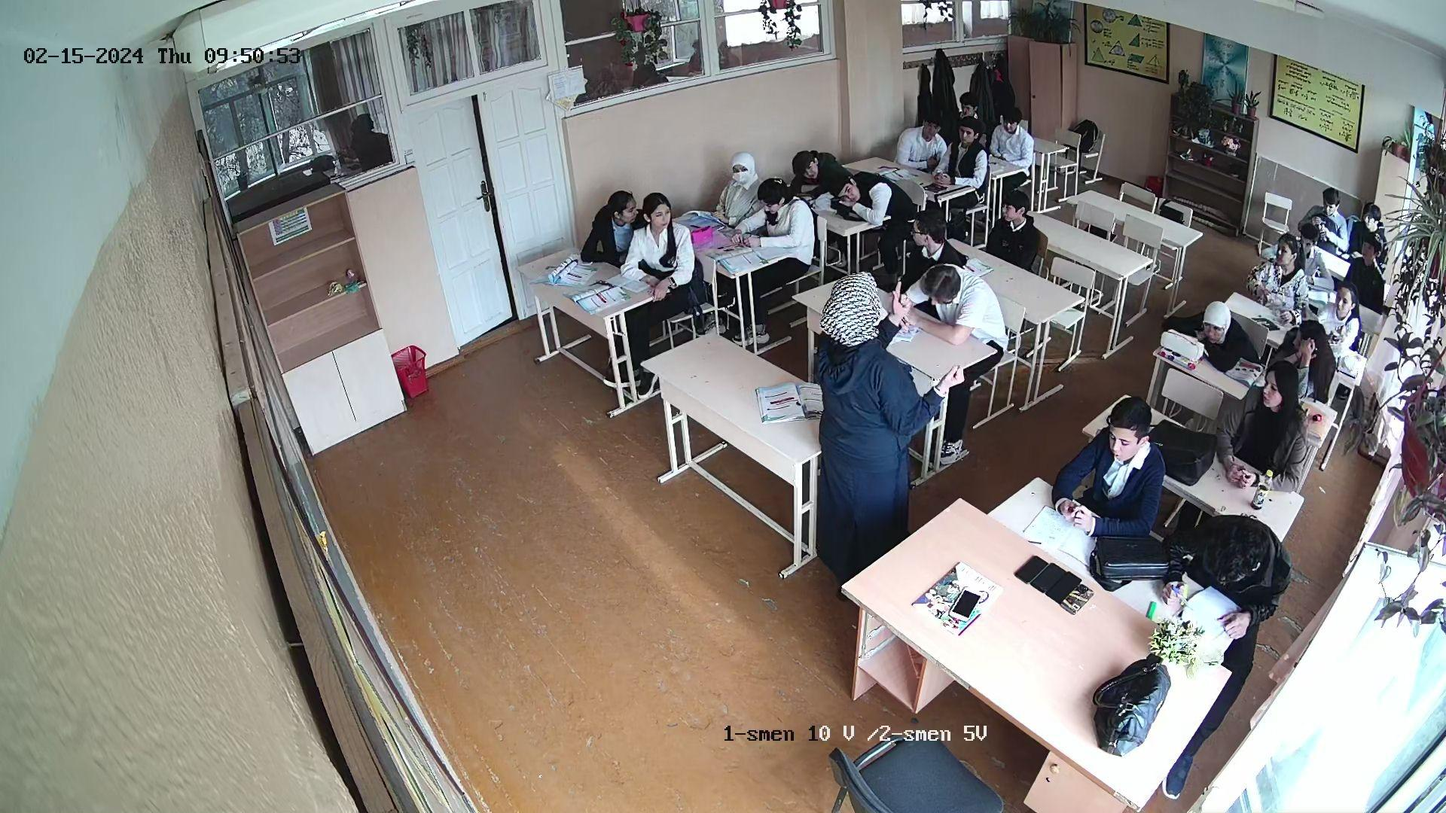Bend Over The Desk: (1174, 297, 1245, 364), (827, 174, 892, 225), (784, 149, 823, 194)
Look Around: (592, 182, 634, 265), (640, 190, 684, 268), (1258, 227, 1303, 295), (905, 209, 951, 249), (916, 113, 944, 151)
Normal: (1080, 403, 1165, 537), (1216, 367, 1301, 498), (1189, 505, 1276, 627), (990, 190, 1035, 263), (992, 108, 1032, 168), (954, 120, 988, 190)
Stand Up: (819, 277, 913, 548)
